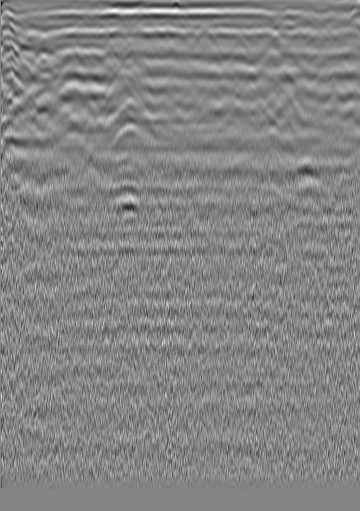가스: (107, 182, 141, 214)
상수: (20, 23, 40, 43)
오수: (295, 26, 315, 46)
우수: (163, 26, 183, 46)
